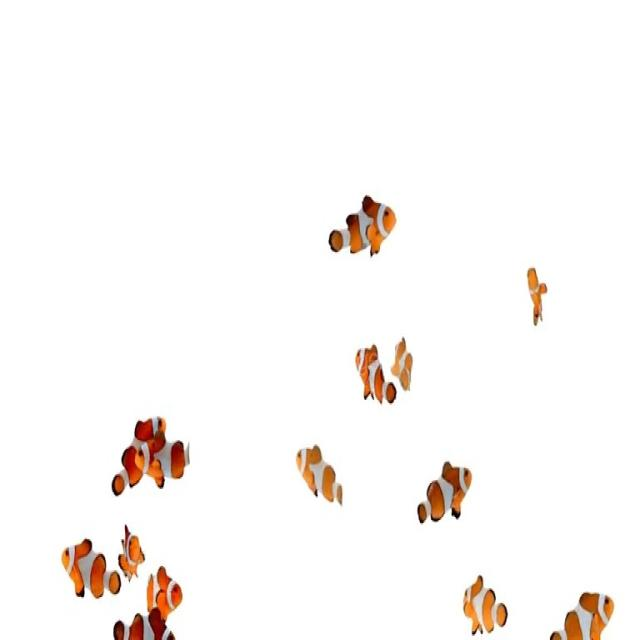fish: (398, 456, 476, 534), (326, 191, 397, 272), (107, 416, 169, 502), (60, 533, 126, 609), (282, 442, 351, 514), (551, 567, 616, 640), (345, 338, 396, 426), (458, 567, 514, 636), (133, 435, 197, 486), (388, 323, 422, 403), (138, 555, 184, 609), (524, 256, 553, 340), (114, 524, 148, 580)
